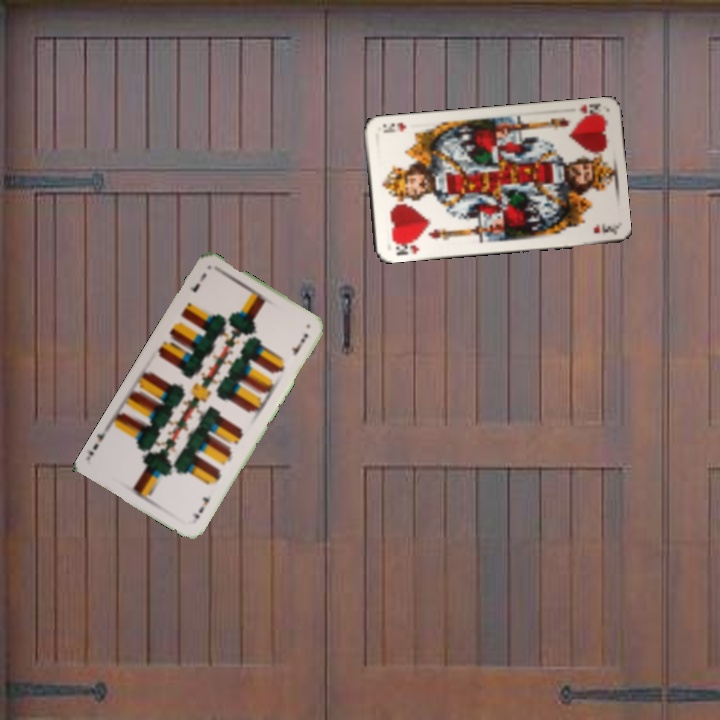E7: (188, 491, 214, 522), (186, 269, 209, 295)
HK: (388, 236, 422, 258), (574, 100, 606, 121)
